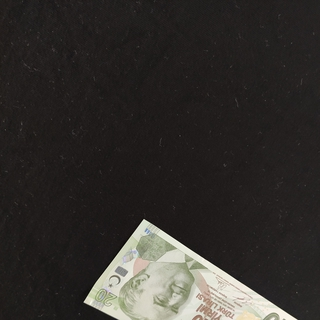20TLFront: (83, 217, 305, 320)
